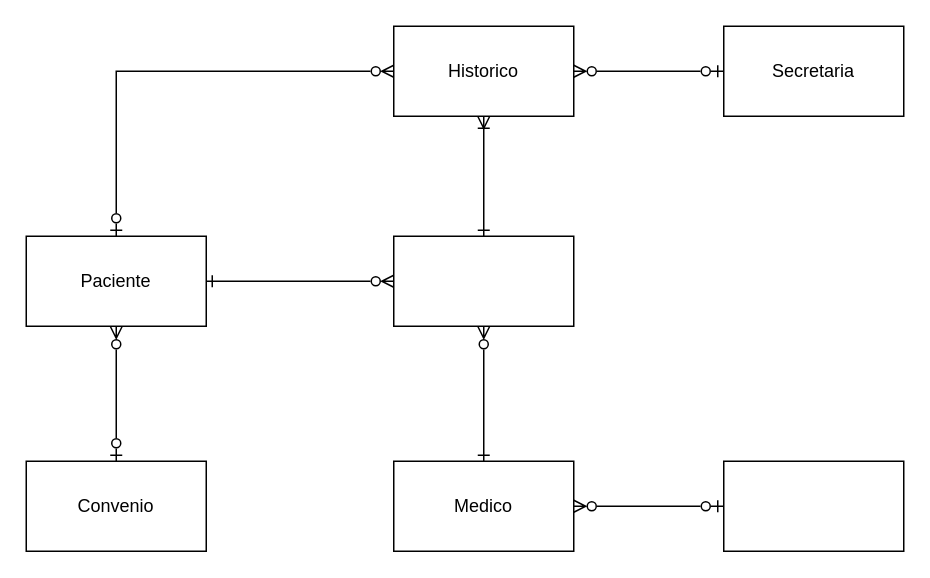
Image size: 930x578. Some labels were removed from this diagram. The centre of each missing label's shape, as x and y in pixels:
Agenda: point 483,280
Especialidade: point 813,505
